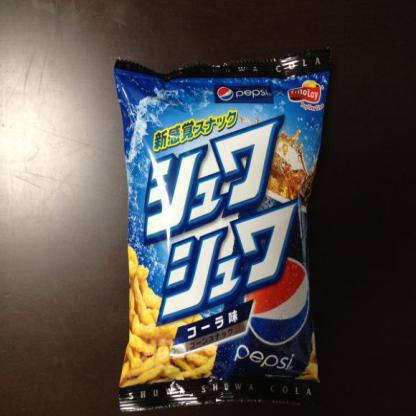potatochip: (107, 47, 337, 414)
